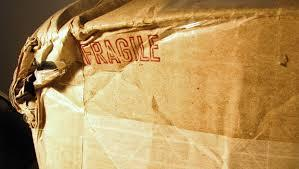damage_box: (9, 0, 297, 167)
